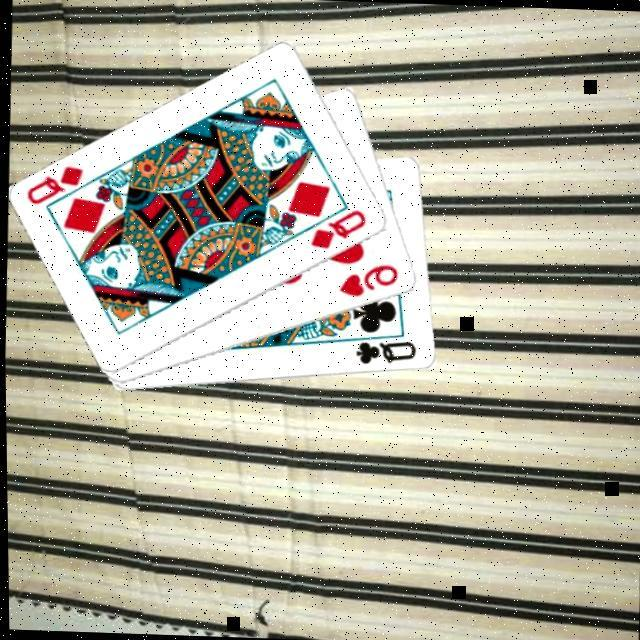9H: (334, 258, 399, 300)
QC: (349, 336, 416, 368)
QD: (19, 160, 85, 208), (304, 204, 368, 252)
